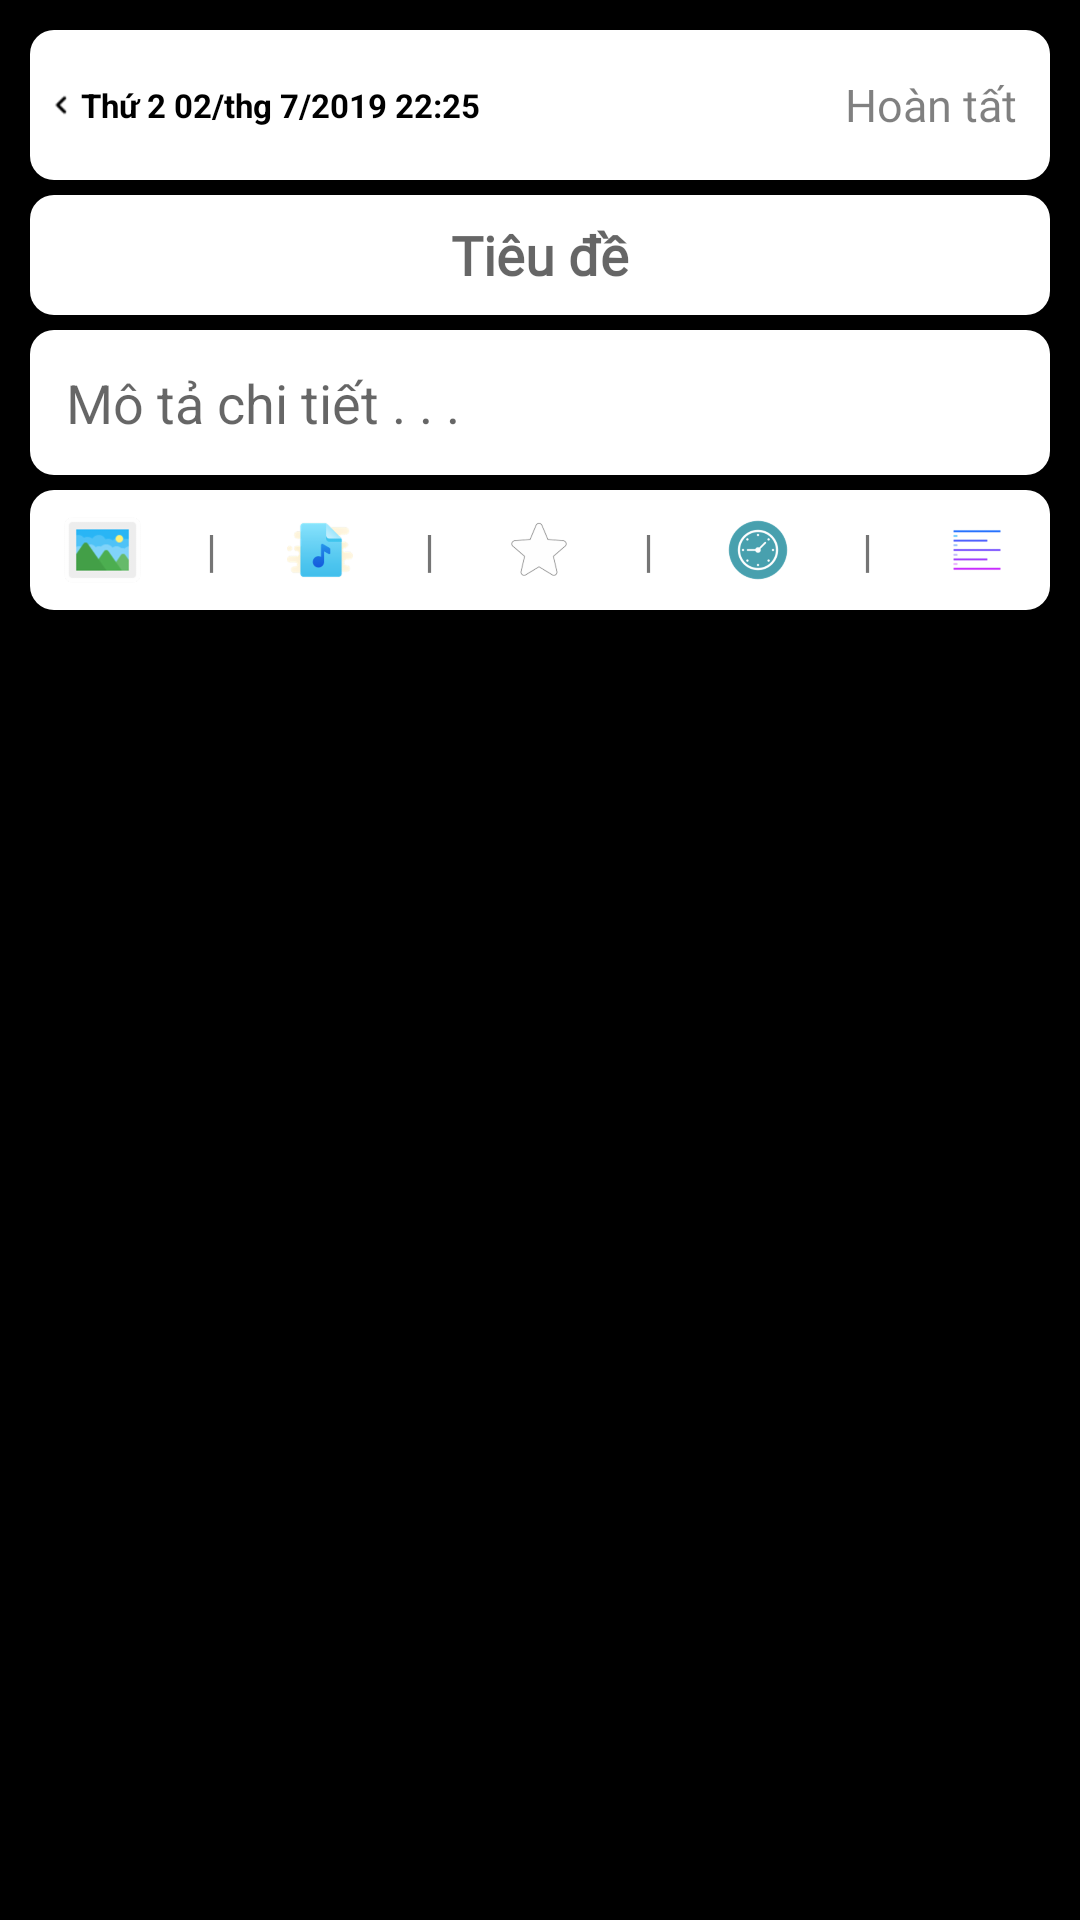

Locate icon controls on the screen. Image size 1080×1920, boxes as (x1, y1, x2, y2).
align: (953, 530, 1001, 570)
audio: (287, 523, 353, 577)
clock: (728, 520, 788, 580)
star no: (511, 523, 567, 576)
